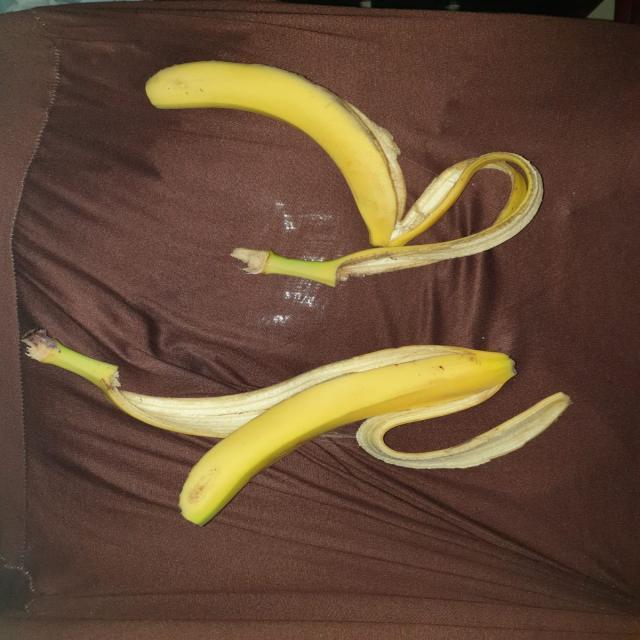banana-peel: (22, 318, 576, 528), (144, 51, 547, 286)
